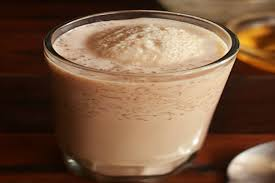jigirthanda: (47, 17, 205, 173)
